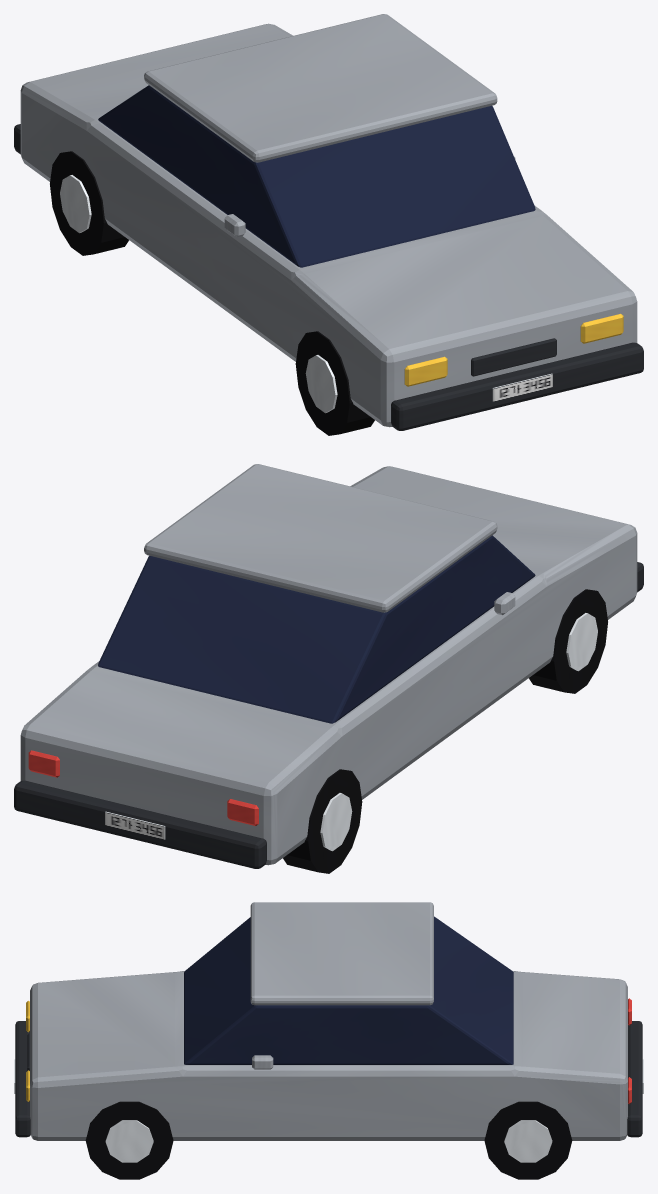
Rendered from ParkedCar_Sedan.glb.
The picture shows the model from 3 angles, top to bottom: view 1: azimuth 30°, elevation 25°; view 2: azimuth 150°, elevation 25°; view 3: azimuth 270°, elevation 25°; orthographic projection. The views are drawn at different scales.
Visible parts, largest first — view 1: Body, Glass, Details, Wheels; view 2: Body, Glass, Details, Wheels; view 3: Body, Glass, Wheels, Details.
Part boxes in pixels (bbox=[...]): Body: bbox=[20, 14, 637, 427]; Glass: bbox=[98, 85, 535, 267]; Details: bbox=[14, 124, 643, 430]; Wheels: bbox=[50, 151, 374, 435]; Body: bbox=[20, 464, 637, 865]; Glass: bbox=[98, 535, 535, 723]; Details: bbox=[14, 562, 643, 868]; Wheels: bbox=[283, 589, 607, 873]; Body: bbox=[30, 902, 627, 1140]; Glass: bbox=[184, 916, 513, 1064]; Wheels: bbox=[85, 1101, 572, 1179]; Details: bbox=[14, 998, 643, 1137].
Bounding box in the file's own units: 1.98 × 1.49 × 4.74.
Materials: 1 (1 with a texture image).
